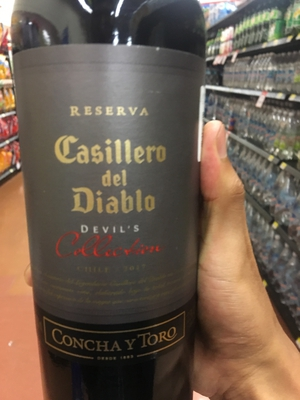casillero del diablo devils collection rojo: (12, 8, 207, 400)
